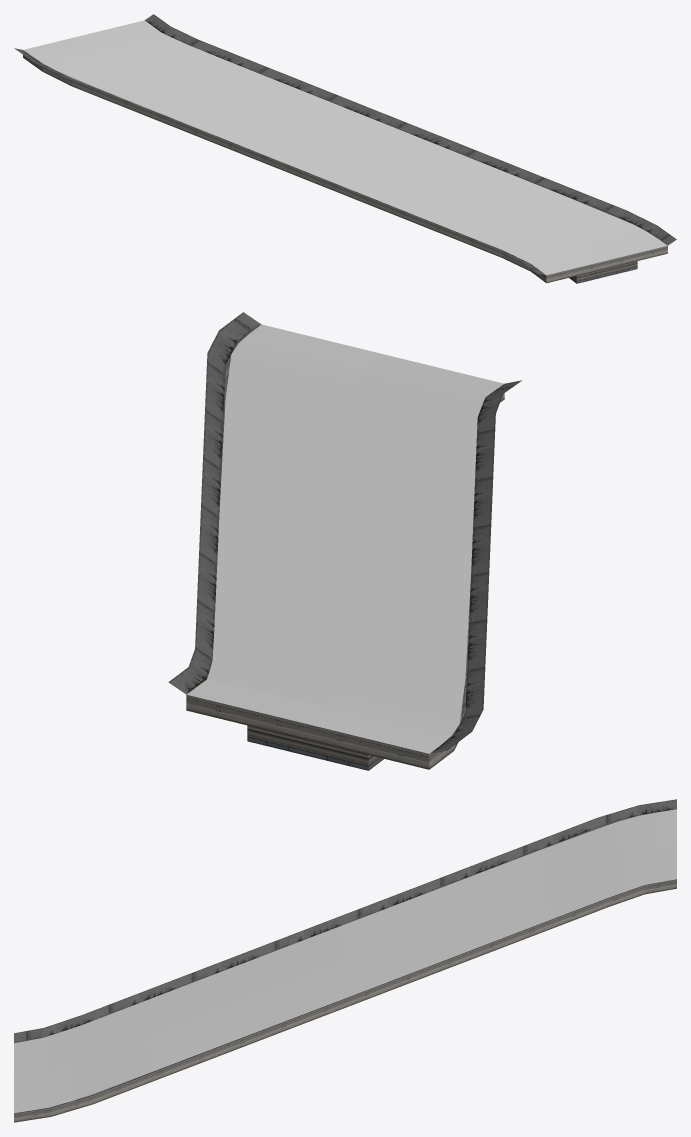
Rendered from ShearSlopeA_L.fbx.
The picture shows the model from 3 angles, top to bottom: view 1: azimuth 30°, elevation 25°; view 2: azimuth 150°, elevation 25°; view 3: azimuth 270°, elevation 25°; orthographic projection. The views are drawn at different scales.
Visible parts, largest first — view 1: Empty_Mesh; view 2: Empty_Mesh; view 3: Empty_Mesh.
Boxes of the visible parts, <box> form: Empty_Mesh: <box>14,14,676,283</box>; Empty_Mesh: <box>168,312,521,770</box>; Empty_Mesh: <box>14,799,676,1122</box>.
Bounding box in the file's own units: 50.4 × 12.5 × 64.
